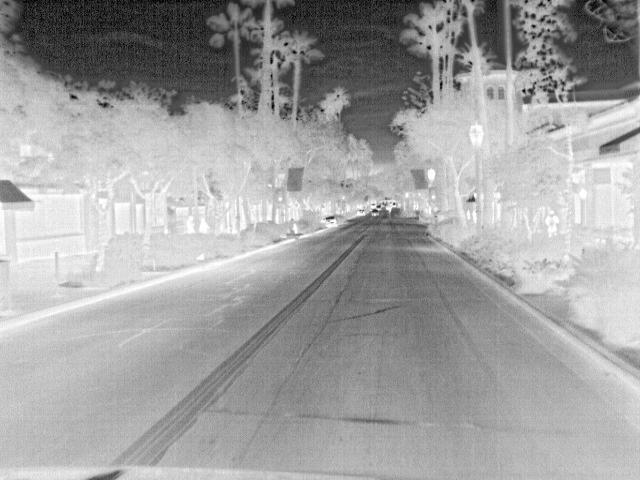car: (320, 214, 340, 227), (355, 208, 366, 218), (369, 208, 379, 219)
person: (544, 208, 559, 237), (182, 211, 196, 233), (194, 214, 210, 233)
